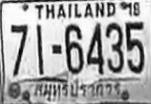1: (36, 25, 43, 74)
3: (105, 22, 123, 72)
4: (86, 22, 103, 73)
5: (125, 21, 143, 72)
6: (64, 23, 83, 73)
7: (10, 23, 28, 75)
SPK: (32, 79, 121, 99)
